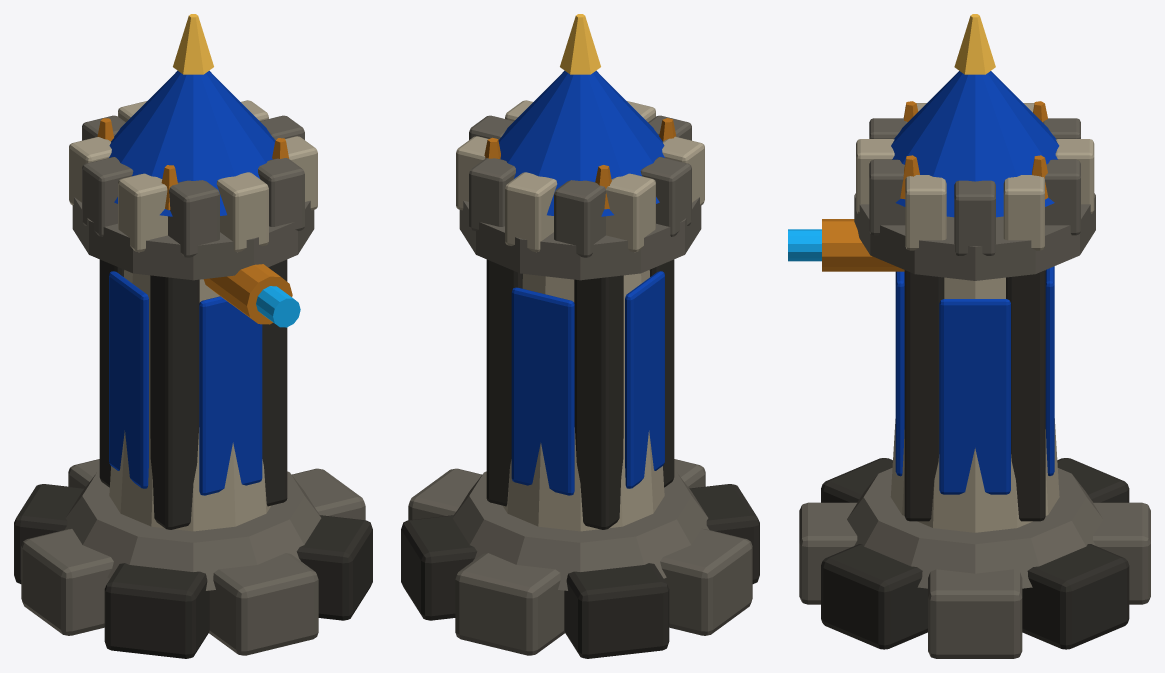
Rendered from tower_t1.glb.
3 renders of one model, left to right at view 1: azimuth 30°, elevation 25°; view 2: azimuth 150°, elevation 25°; view 3: azimuth 270°, elevation 25°, orthographic.
Visible parts, largest first — view 1: model; view 2: model; view 3: model.
Boxes of the visible parts, box(x1,y1,x2,y2) form: model: box(14, 14, 372, 658); model: box(401, 14, 759, 658); model: box(788, 14, 1150, 658).
Size of the model in its own units: 1.86 by 3.34 by 1.92.
1 material, 1 textured.
